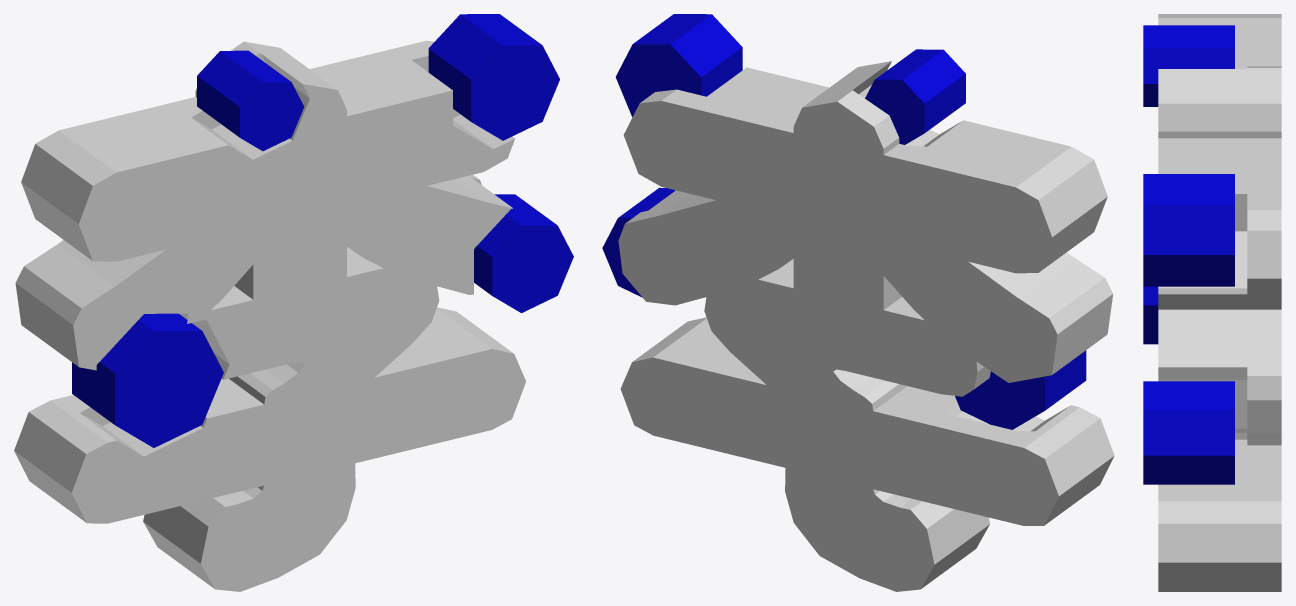
Rendered from Ch_Lite_China_李_01.fbx.
3 renders of one model, left to right at view 1: azimuth 30°, elevation 25°; view 2: azimuth 150°, elevation 25°; view 3: azimuth 270°, elevation 25°, orthographic. The views are drawn at different scales.
Visible parts, largest first — view 1: sphere1; view 2: sphere1; view 3: sphere1.
Boxes of the visible parts, <box> form: sphere1: <box>14,14,573,591</box>; sphere1: <box>602,14,1114,591</box>; sphere1: <box>1143,14,1281,591</box>.
Size of the model in its own units: 0.9912 by 0.9773 by 0.2242.
